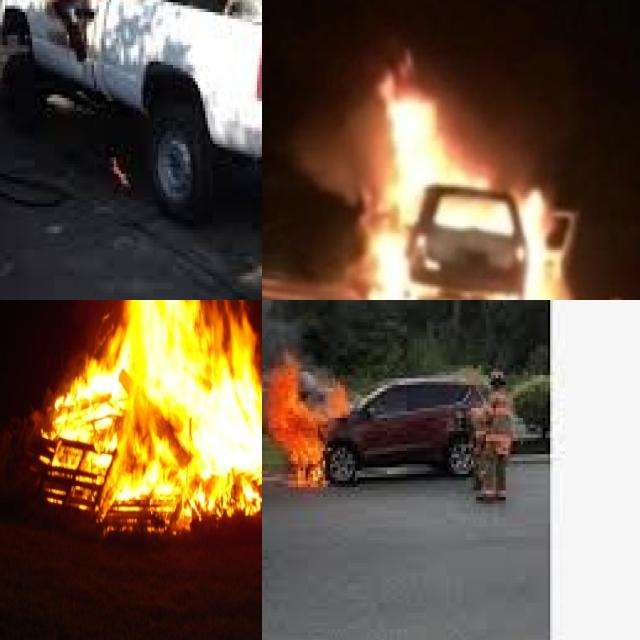fire: (362, 55, 590, 300), (29, 300, 262, 533), (262, 348, 362, 493)
